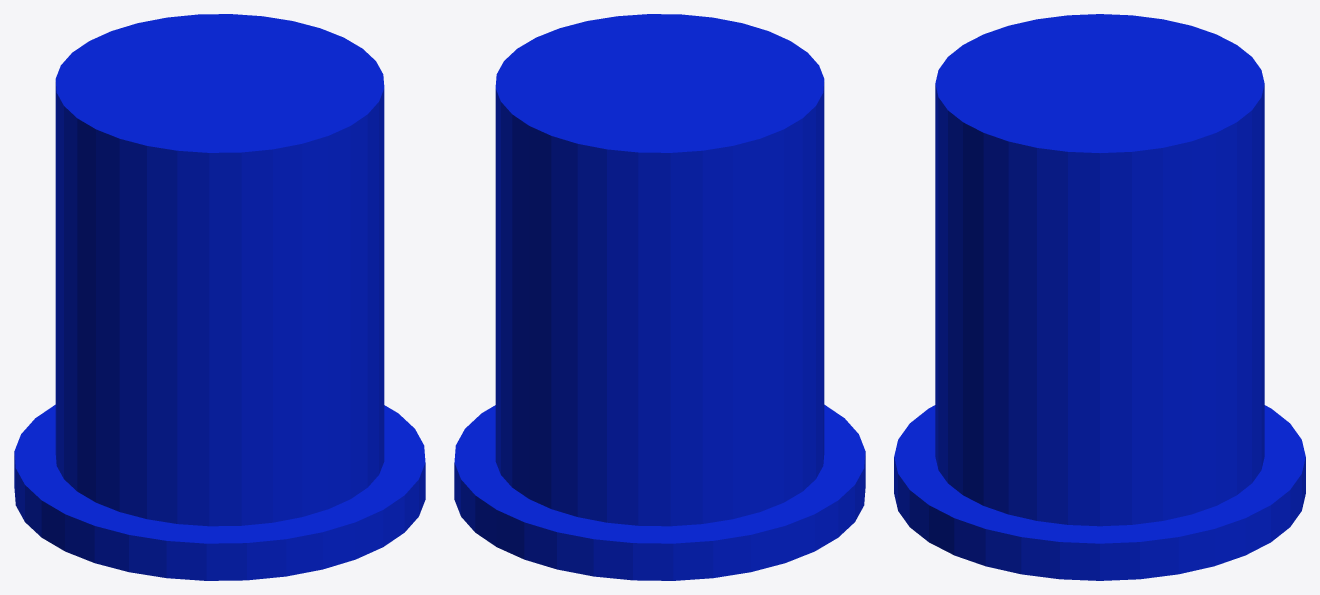
File: hat5.fbx
The picture shows the model from 3 angles, left to right: view 1: azimuth 30°, elevation 25°; view 2: azimuth 150°, elevation 25°; view 3: azimuth 270°, elevation 25°; orthographic projection.
Visible parts, largest first — view 1: Cylinder.001, Cylinder; view 2: Cylinder.001, Cylinder; view 3: Cylinder.001, Cylinder.
Boxes of the visible parts, x1,y1,x2,y2 form: Cylinder.001: (55, 14, 384, 526); Cylinder: (14, 404, 425, 580); Cylinder.001: (495, 14, 824, 526); Cylinder: (454, 404, 865, 580); Cylinder.001: (935, 14, 1264, 526); Cylinder: (894, 405, 1305, 580).
Bounding box in the file's own units: 200 × 220 × 200.
